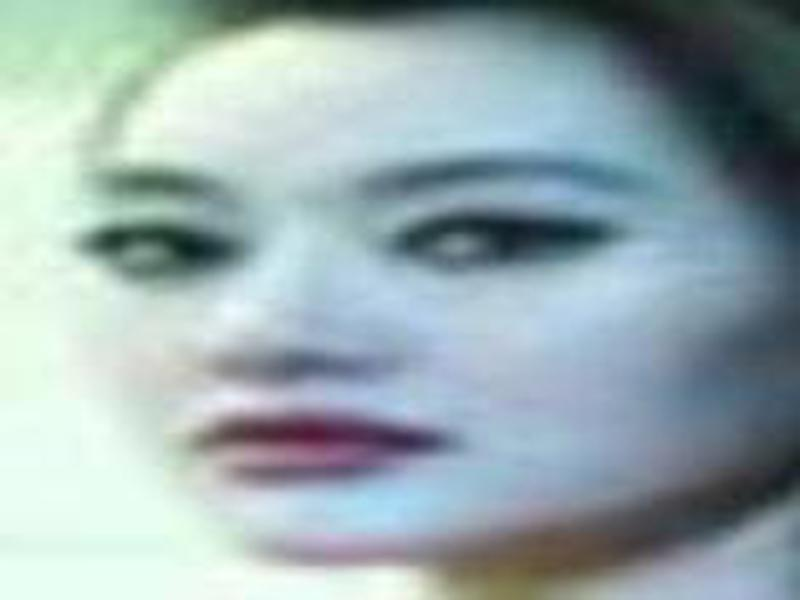without_mask: (72, 48, 717, 563)
